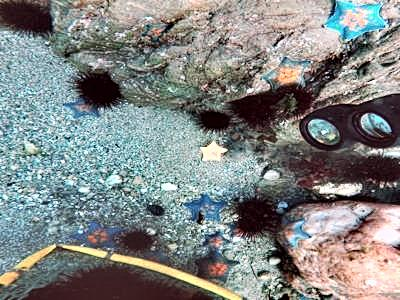urchin: (53, 259, 146, 294), (71, 69, 122, 110), (1, 3, 55, 38), (232, 193, 272, 237), (232, 91, 276, 129), (355, 153, 393, 186), (272, 83, 310, 114), (117, 227, 159, 254), (194, 106, 231, 132)
